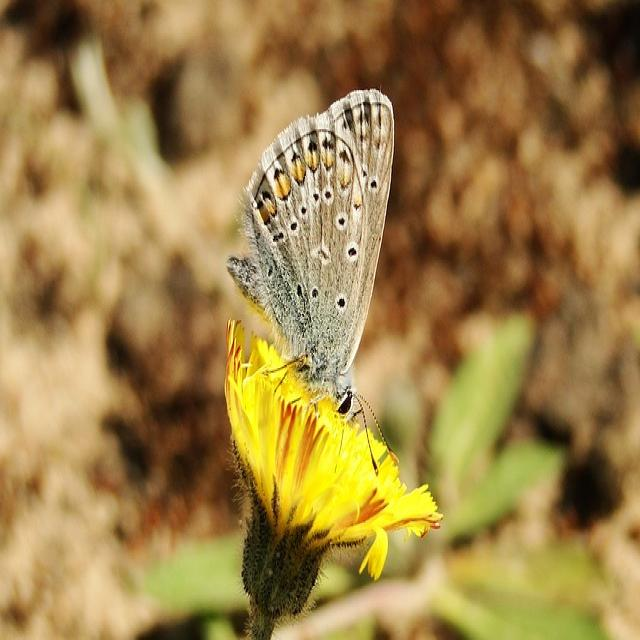butterfly: (223, 89, 396, 428)
